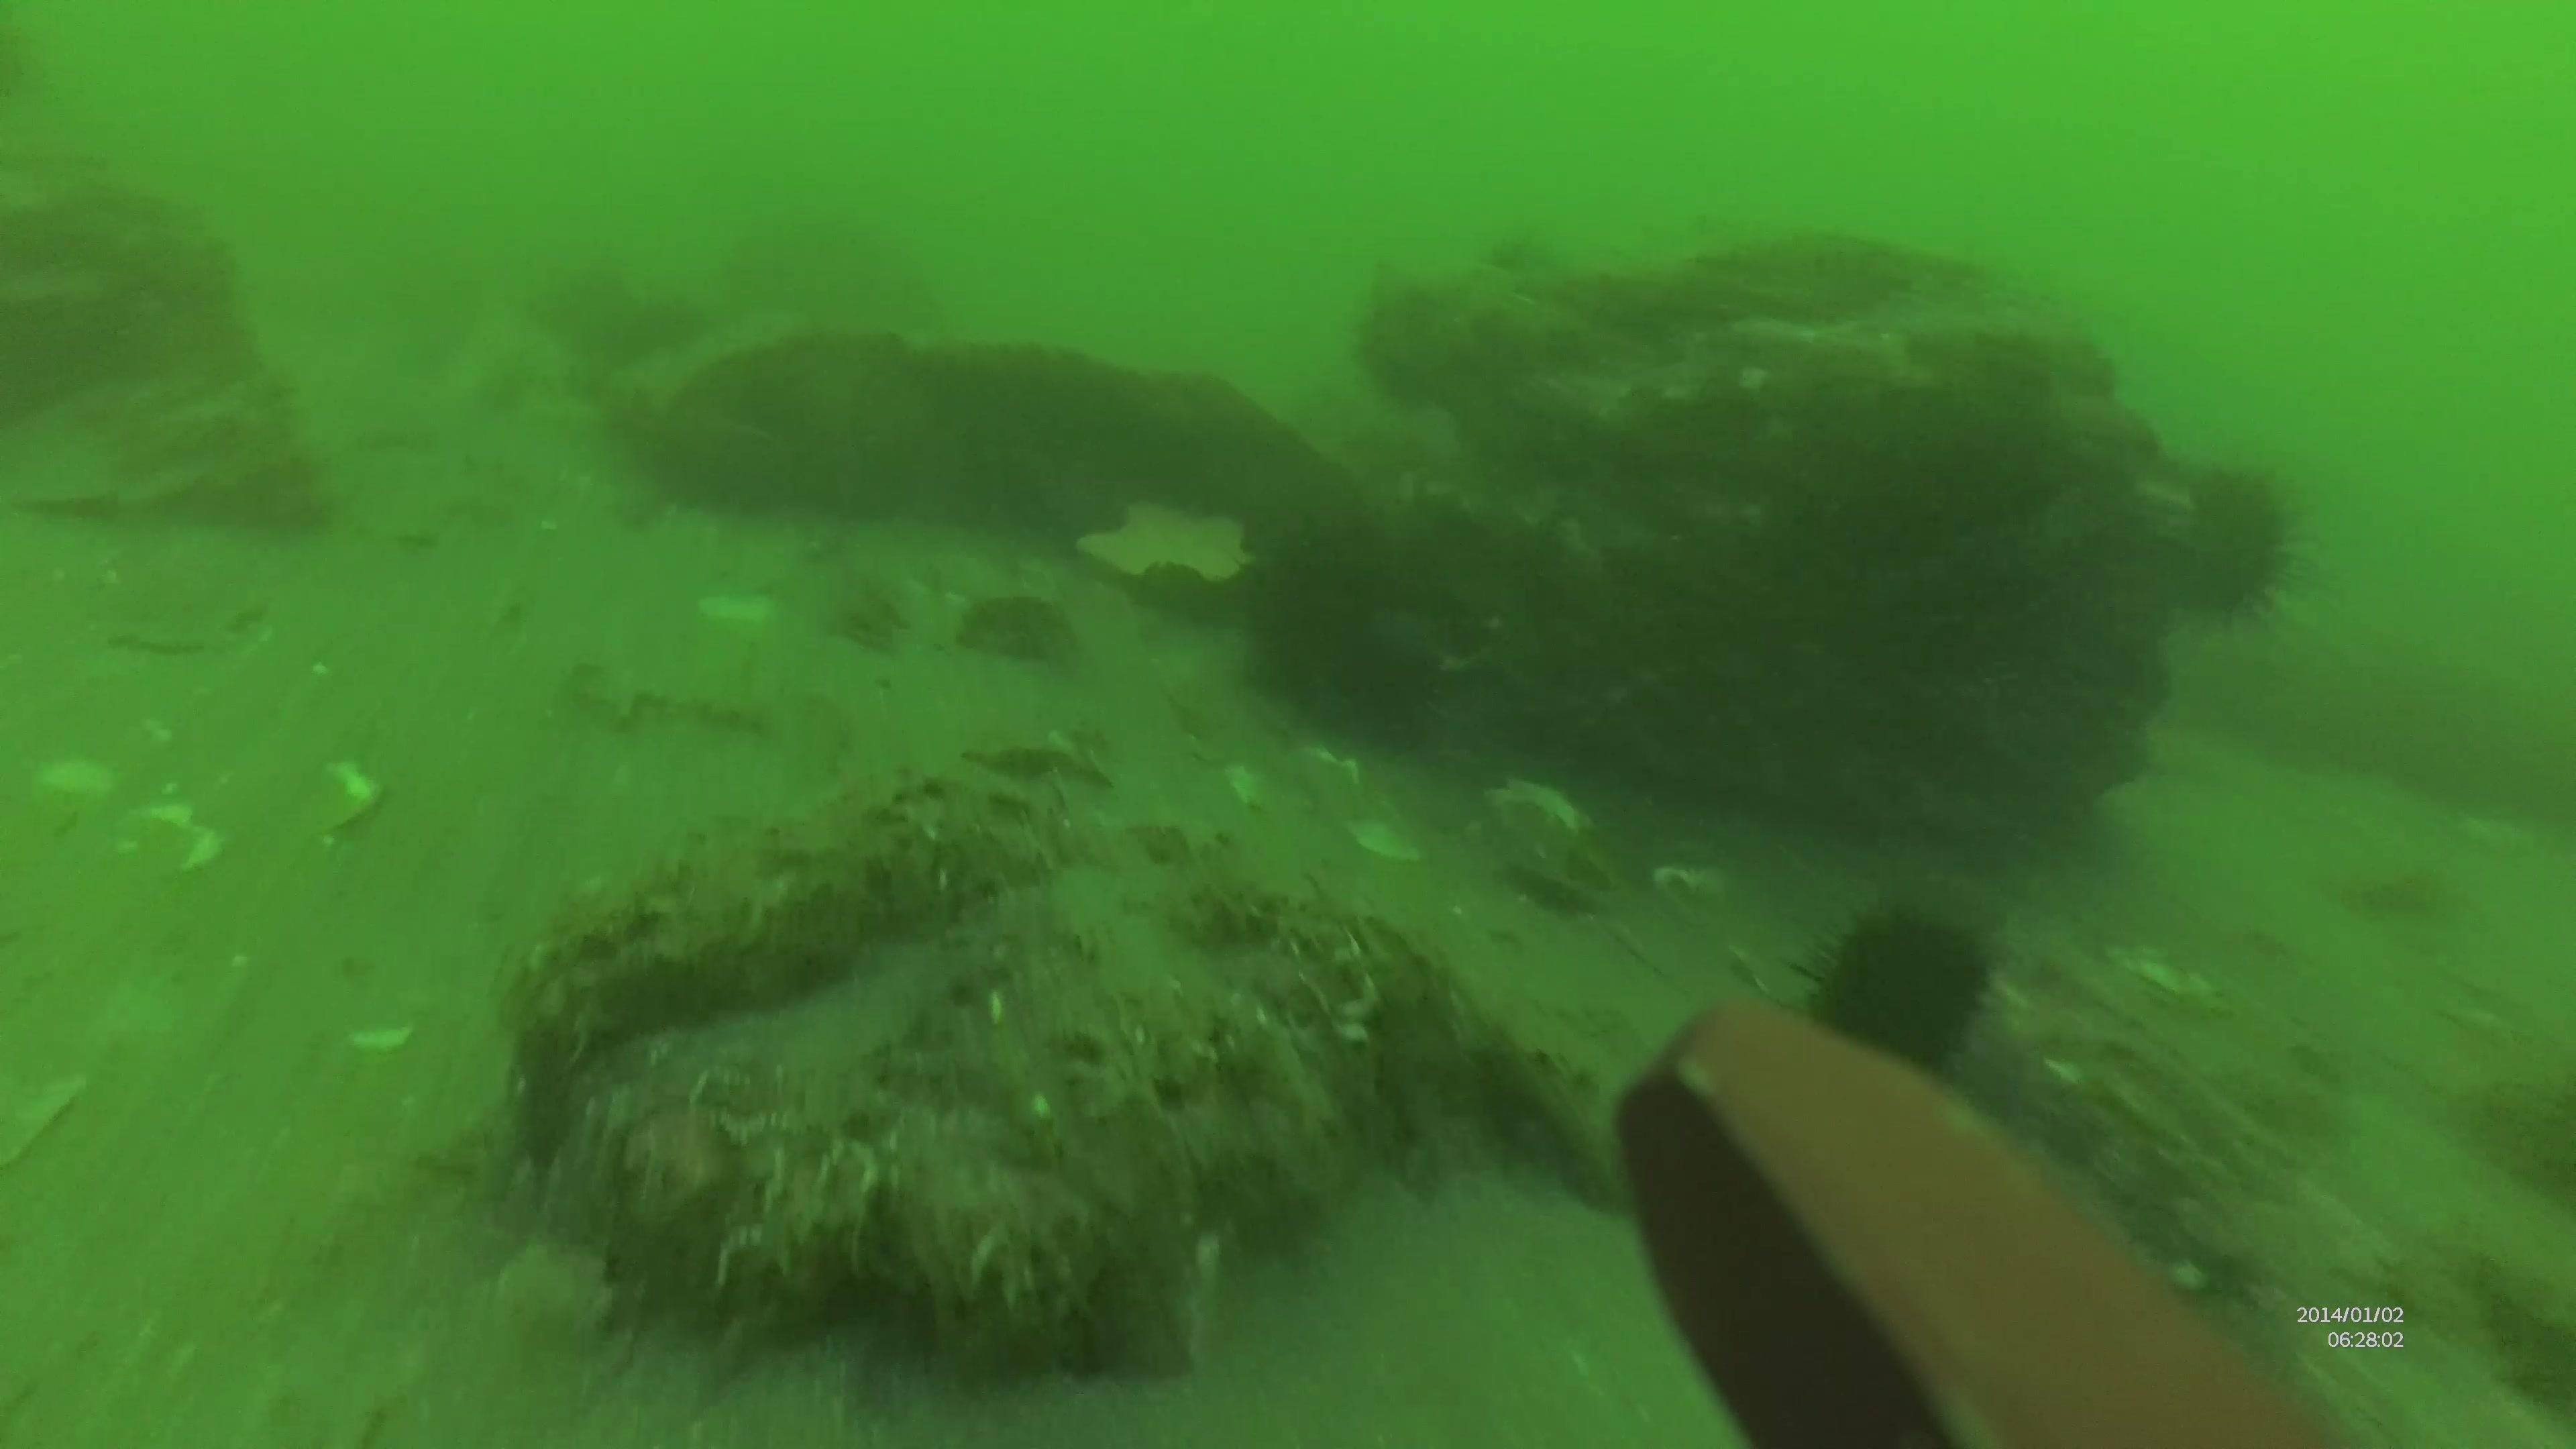echinus: (1796, 902, 1989, 1081), (2128, 448, 2314, 628)
starfish: (1083, 497, 1253, 580)
